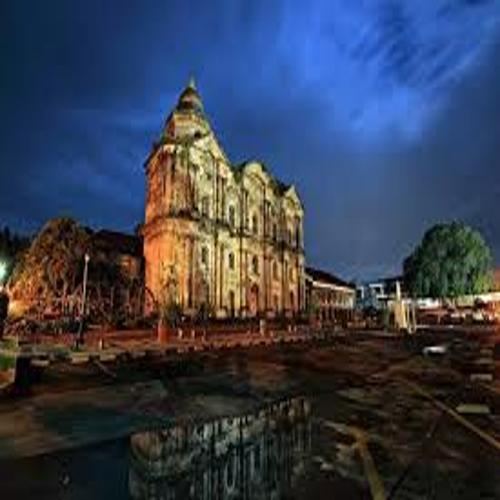Taal Basilica Church: (134, 66, 317, 337)
